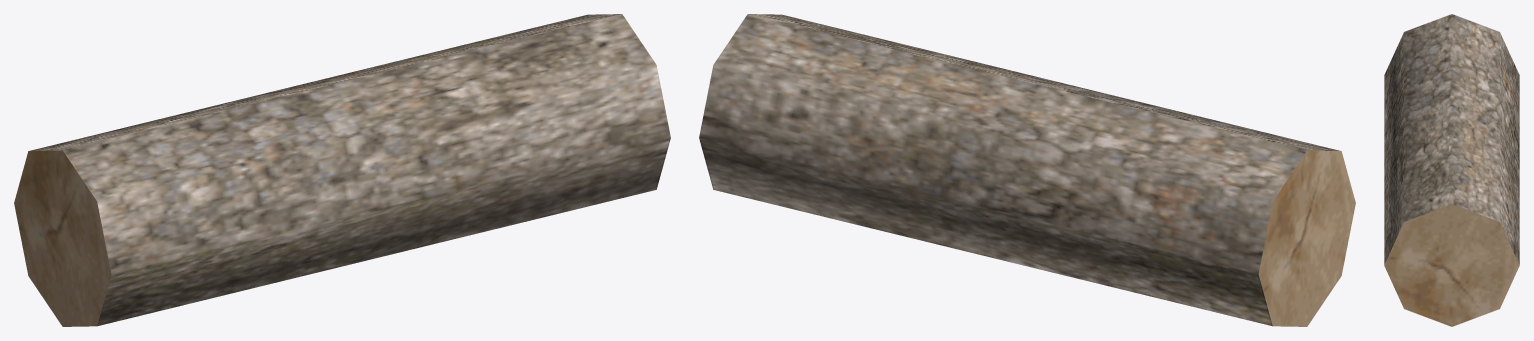
The model's file is Log.fbx.
3 views of the same model, side by side, from view 1: azimuth 30°, elevation 25°; view 2: azimuth 150°, elevation 25°; view 3: azimuth 270°, elevation 25° (orthographic). The views are drawn at different scales.
Parts seen in each view (by area): view 1: Cylinder; view 2: Cylinder; view 3: Cylinder.
Part boxes in pixels (bbox=[...]): Cylinder: bbox=[14, 14, 670, 326]; Cylinder: bbox=[699, 14, 1355, 326]; Cylinder: bbox=[1384, 14, 1519, 326].
Size of the model in its own units: 457 by 138 by 138.
